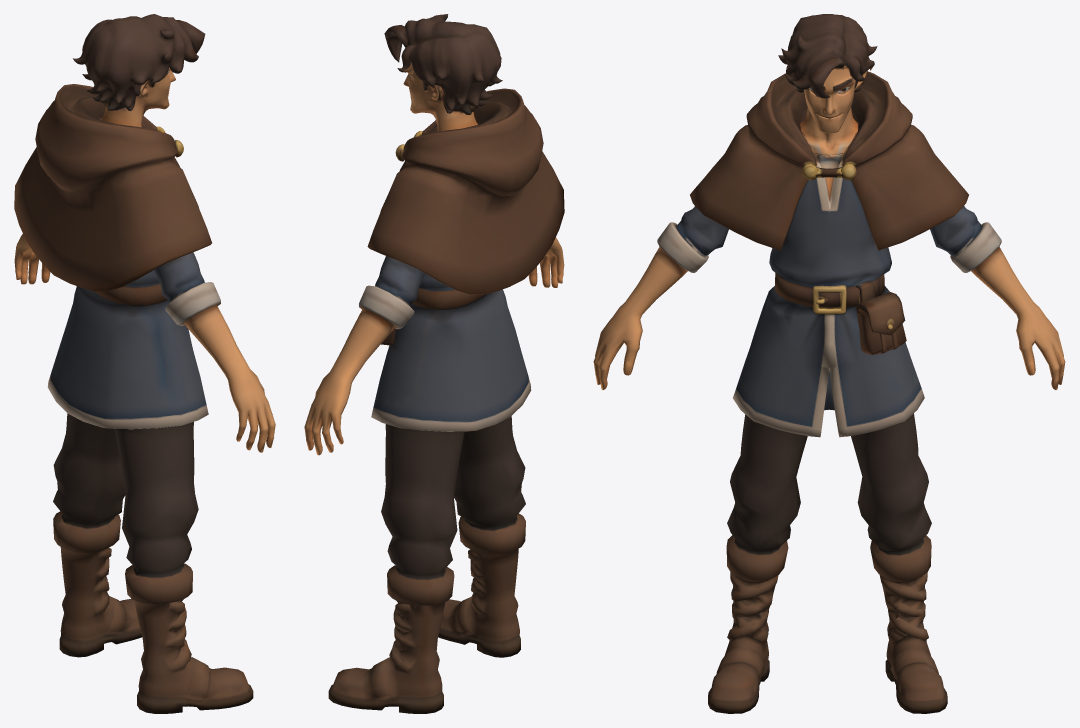
The model's file is aydor_tripo.glb.
3 renders of one model, left to right at view 1: azimuth 30°, elevation 25°; view 2: azimuth 150°, elevation 25°; view 3: azimuth 270°, elevation 25°, orthographic.
Visible parts, largest first — view 1: tripo_node_0e97c2f6-5bcd-48f3-8e27-8c1b59ce4a97; view 2: tripo_node_0e97c2f6-5bcd-48f3-8e27-8c1b59ce4a97; view 3: tripo_node_0e97c2f6-5bcd-48f3-8e27-8c1b59ce4a97.
Boxes of the visible parts, <box> form: tripo_node_0e97c2f6-5bcd-48f3-8e27-8c1b59ce4a97: <box>14,14,275,713</box>; tripo_node_0e97c2f6-5bcd-48f3-8e27-8c1b59ce4a97: <box>304,14,564,713</box>; tripo_node_0e97c2f6-5bcd-48f3-8e27-8c1b59ce4a97: <box>593,14,1065,713</box>.
Size of the model in its own units: 0.4318 by 1.8 by 1.17.
1 material, 1 textured.
